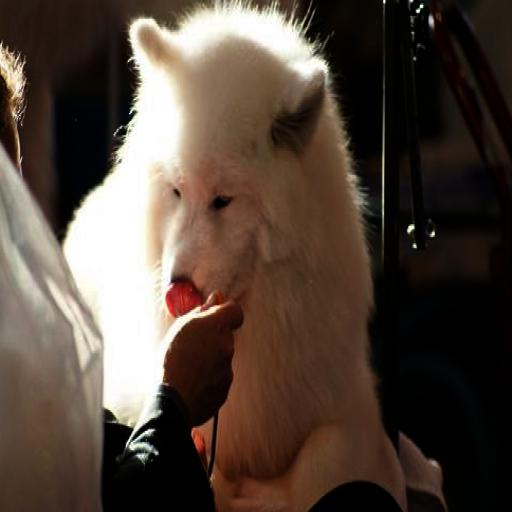dog_face: (127, 18, 319, 325)
